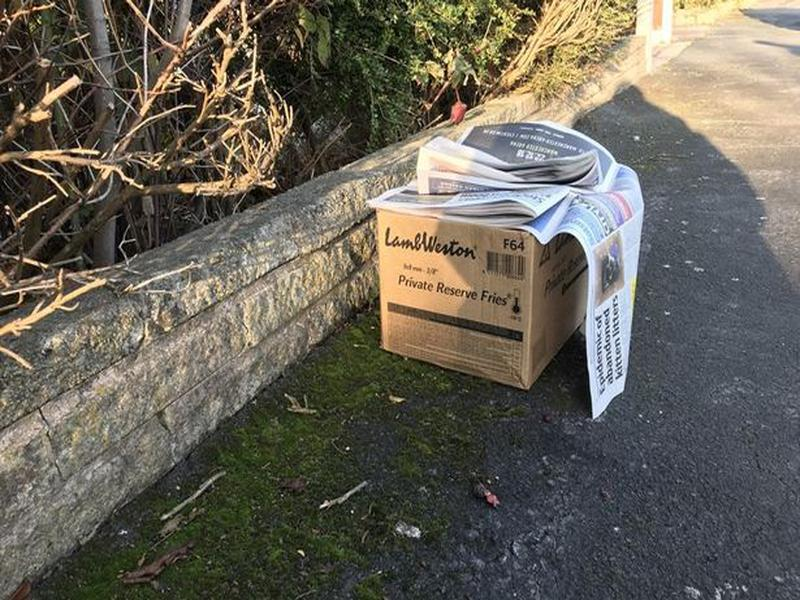cardboard: (369, 203, 585, 393)
paper: (359, 119, 620, 225), (554, 167, 648, 420)
